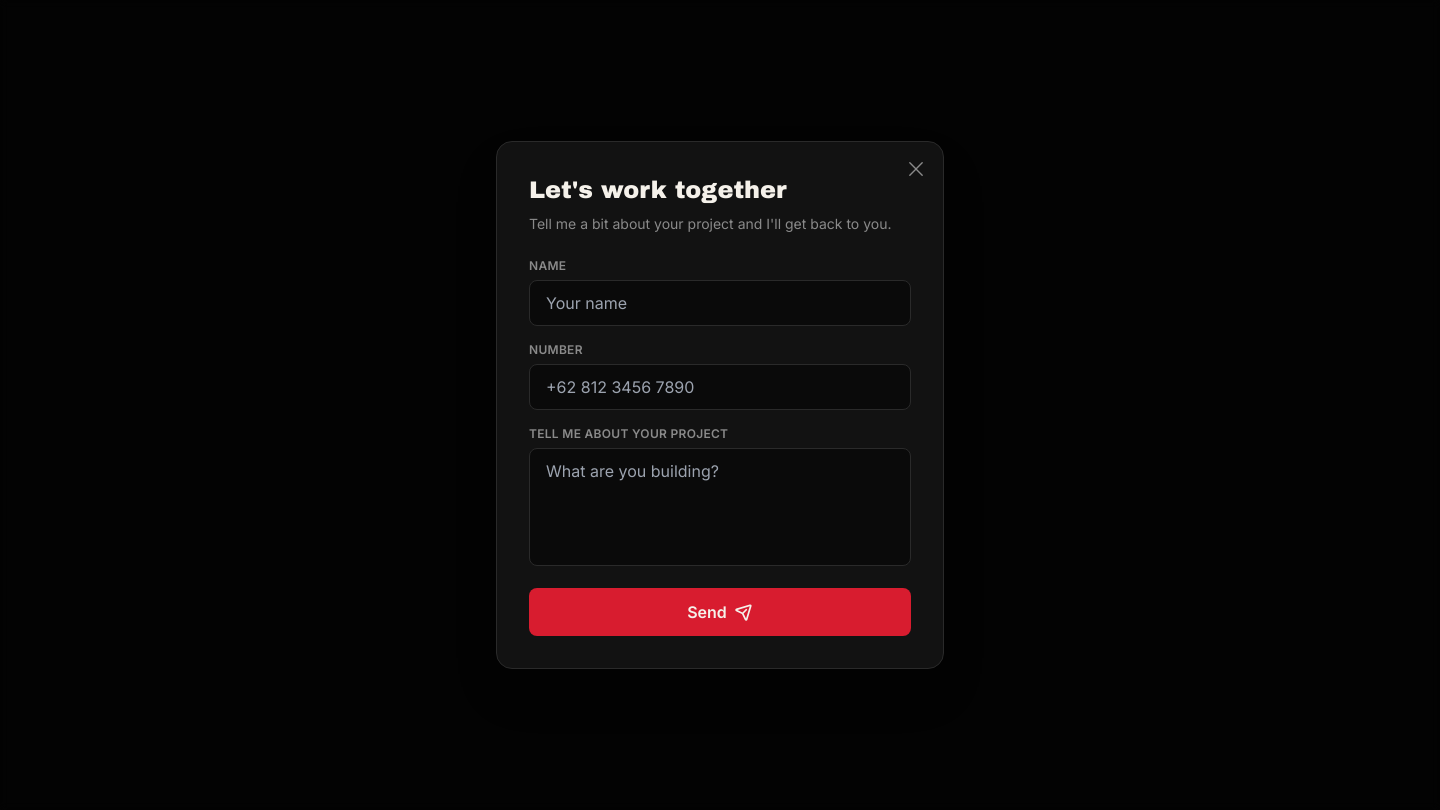
Test: ContactModal › shows the thank-you message after submitting the form
Type "Ada Lovelace" into the field labelled "Name". click: x=720, y=303
box: left=529, top=280, right=911, bottom=326
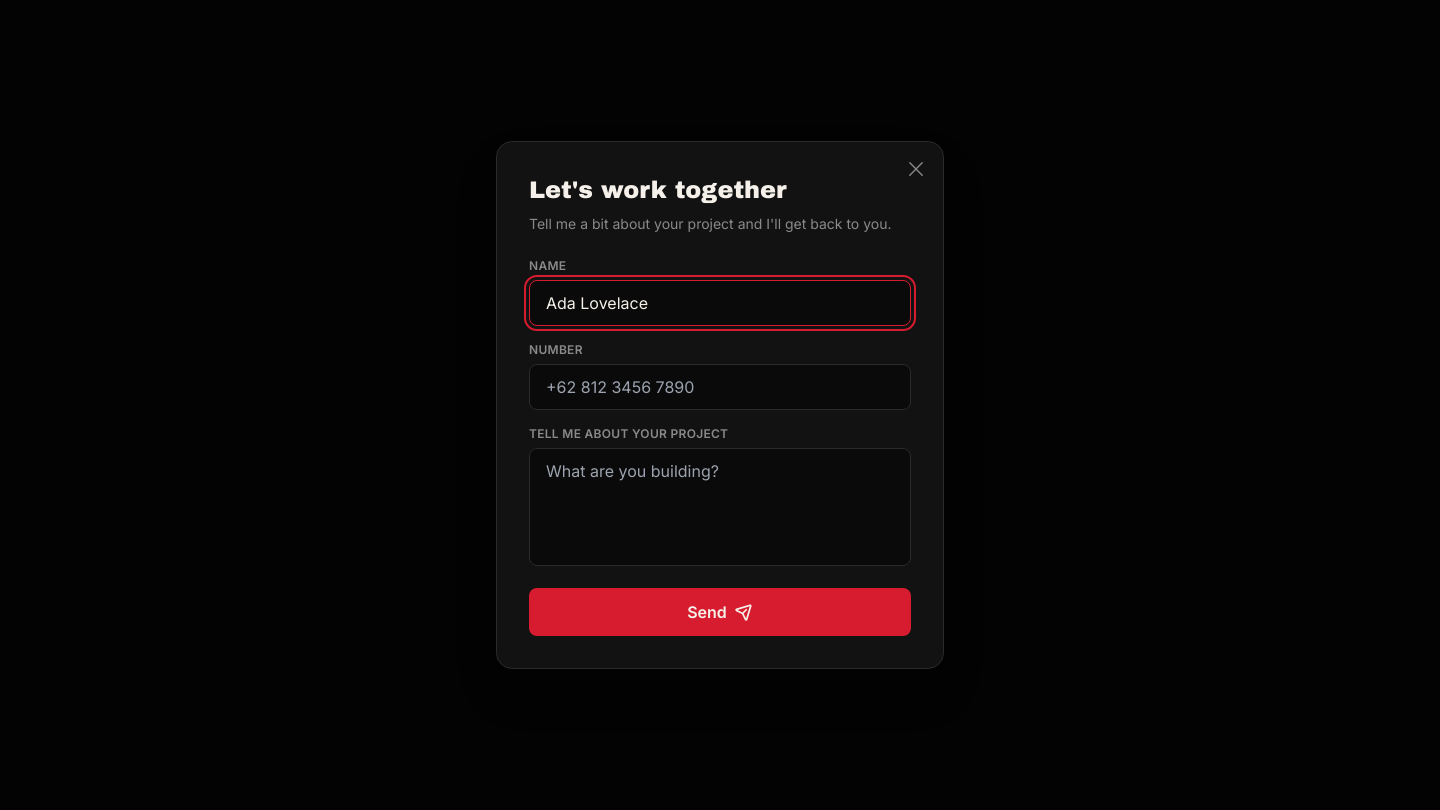
Type "+62 812 0000 0000" into the field labelled "Number". click: x=720, y=387
box: left=529, top=364, right=911, bottom=410
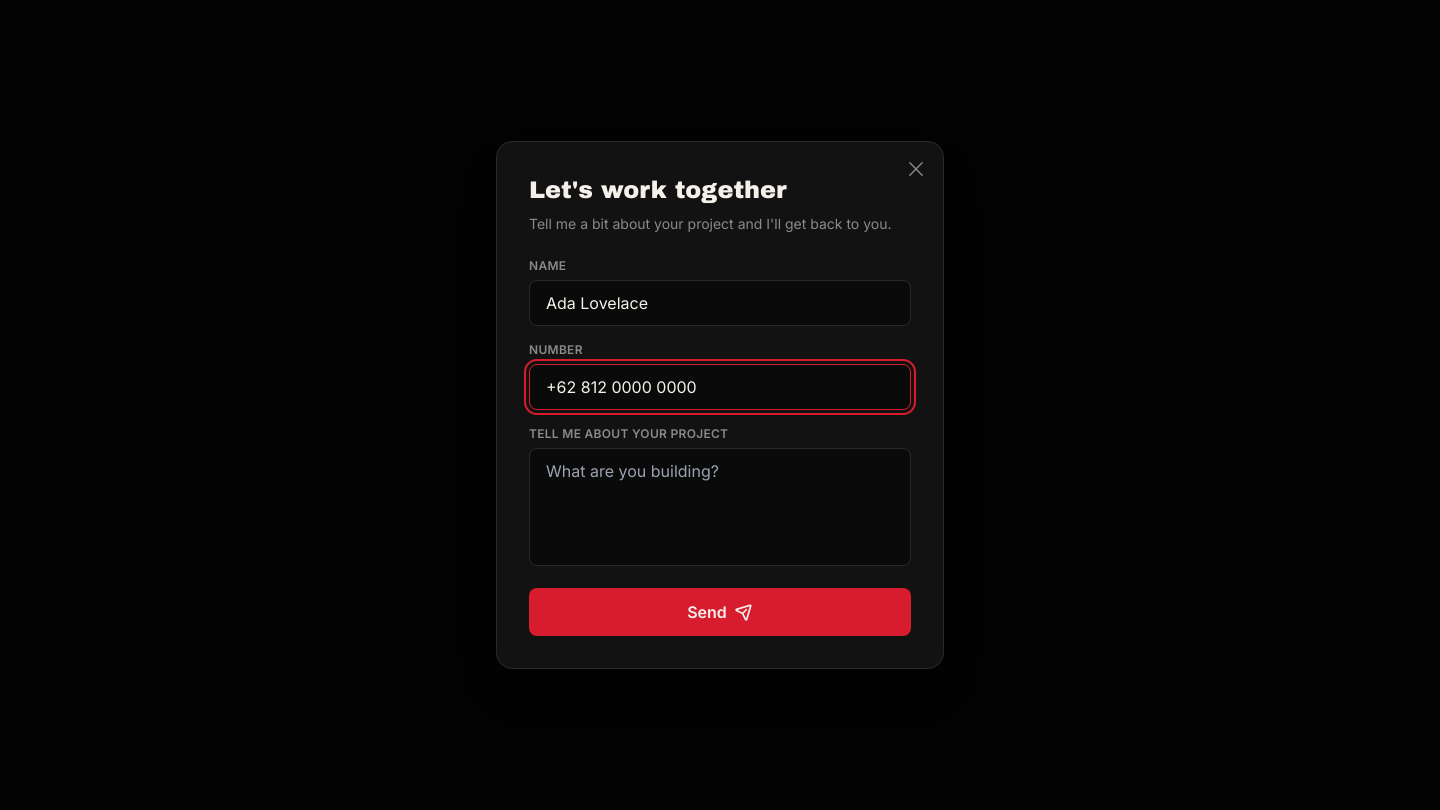
Type "I need a portfolio site." into the text box labelled "Tell me about your project". click: x=720, y=507
box: left=529, top=448, right=911, bottom=566
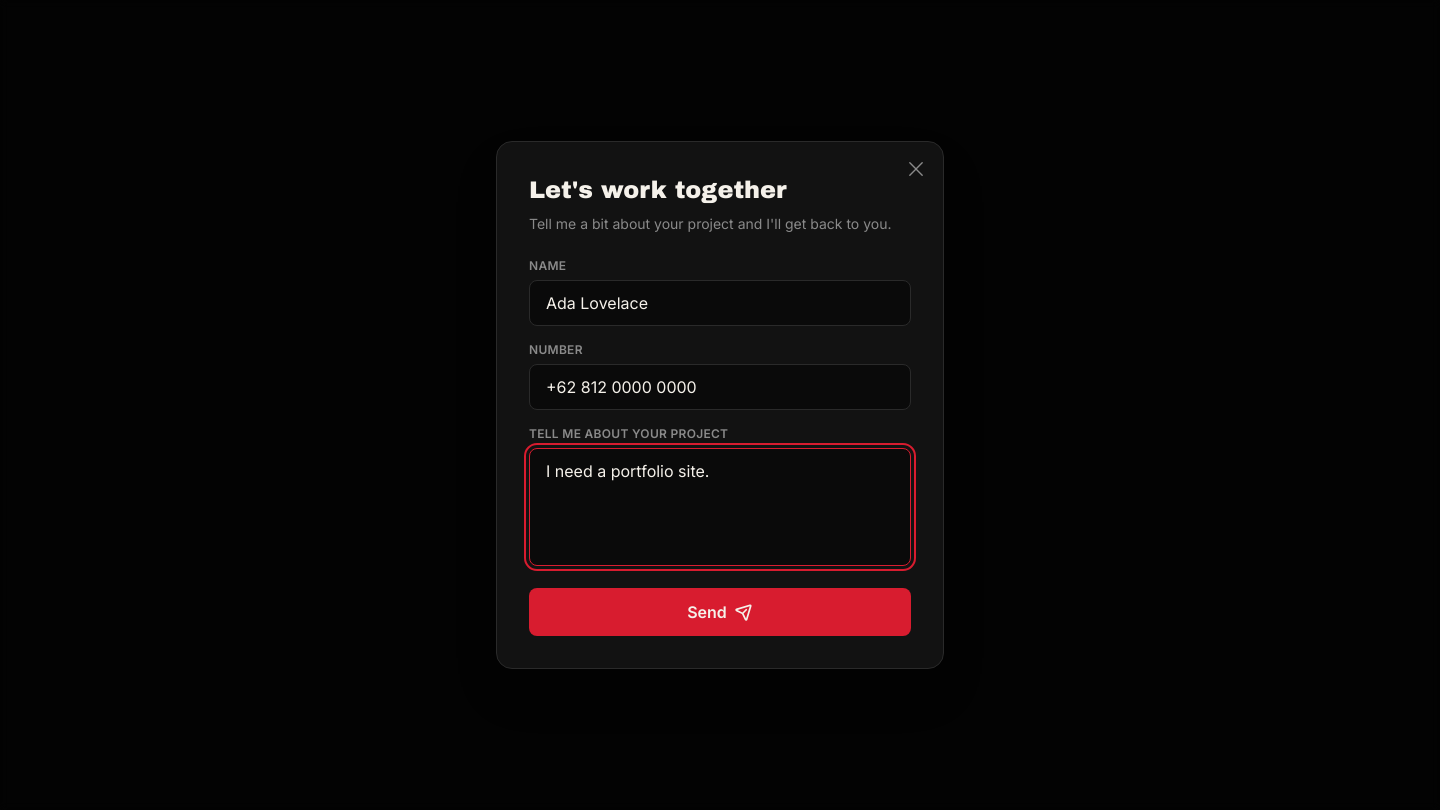
Click the button "Send". click: x=720, y=612
box: left=529, top=588, right=911, bottom=636
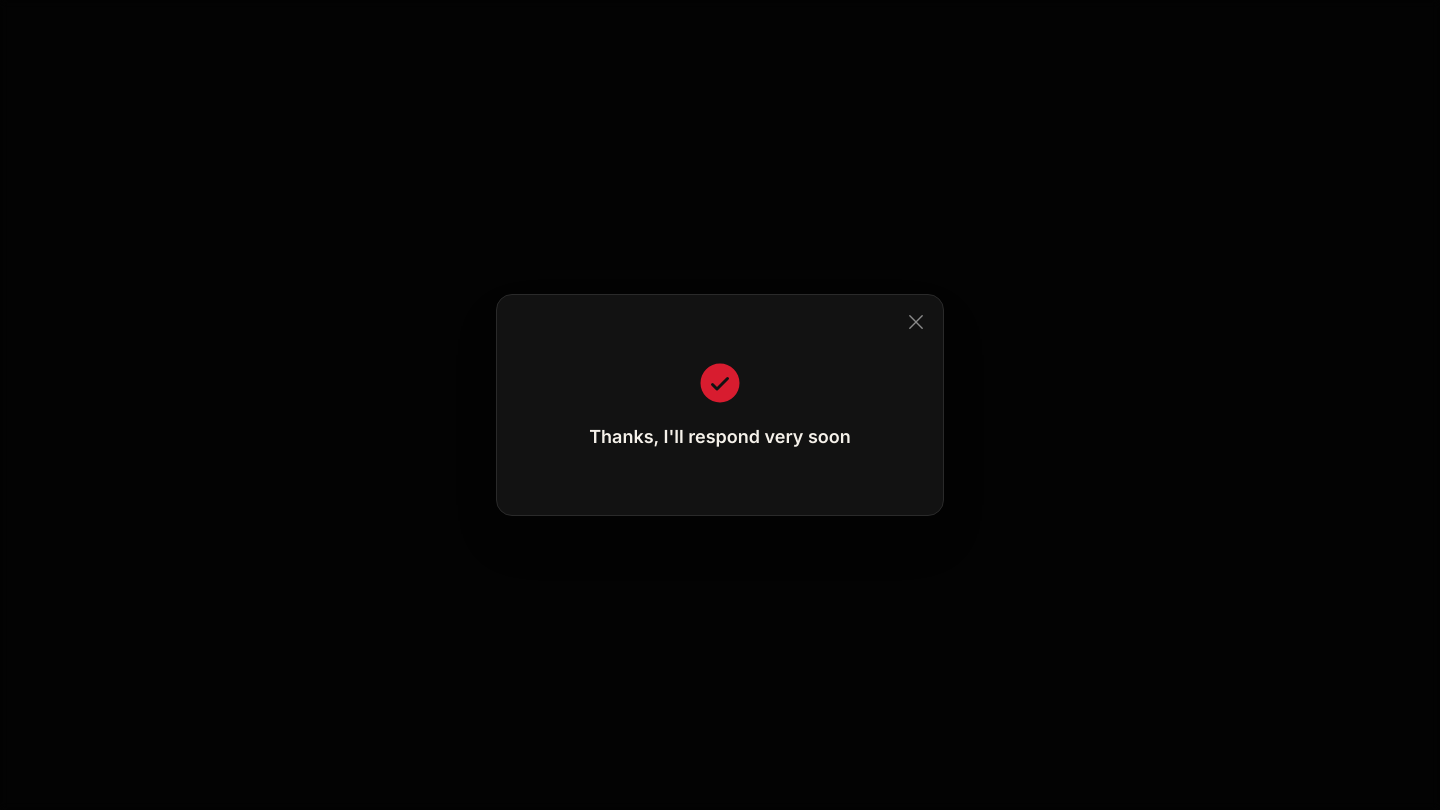
Now the text "Thanks, I'll respond very soon" is shown, box left=589, top=423, right=851, bottom=451
